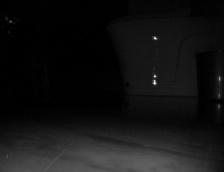toilet: (103, 5, 222, 98)
